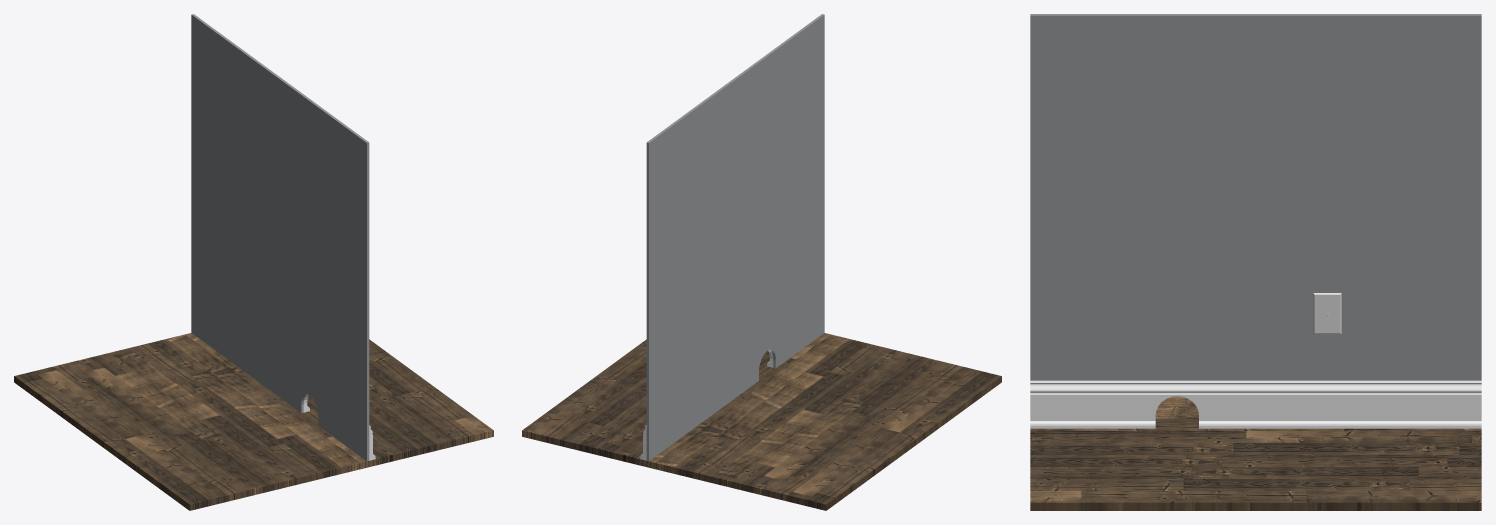
The model's file is wall.glb.
3 views of the same model, side by side, from view 1: azimuth 30°, elevation 25°; view 2: azimuth 150°, elevation 25°; view 3: azimuth 270°, elevation 25° (orthographic). The views are drawn at different scales.
Visible parts, largest first — view 1: wall, floor; view 2: wall, floor; view 3: wall, floor, baseboards, outlet.
Part boxes in pixels (x1,y1,x2,y2): wall: (191, 14, 369, 461); floor: (14, 333, 493, 510); wall: (646, 14, 824, 461); floor: (522, 333, 1001, 510); wall: (1030, 14, 1481, 380); floor: (1030, 396, 1481, 510); baseboards: (1030, 380, 1481, 428); outlet: (1313, 293, 1341, 333).
Size of the model in its own units: 500 by 510 by 500.
5 materials, 1 textured.
